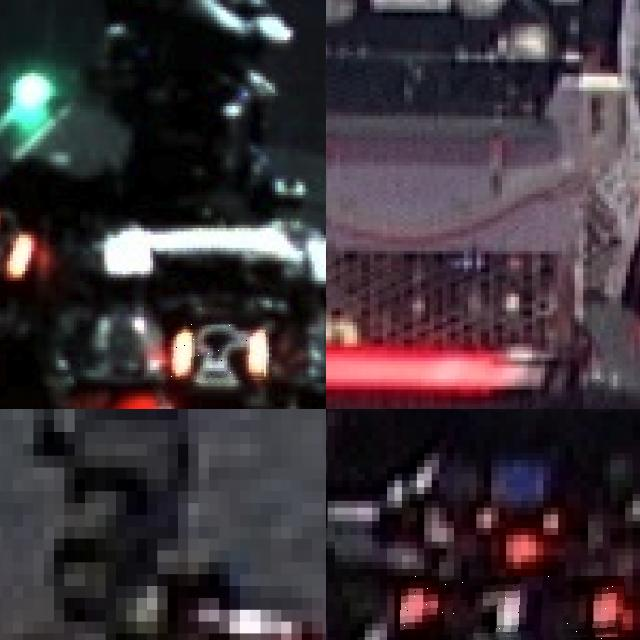R1: (394, 576, 625, 640)
Rs: (171, 324, 266, 383)
